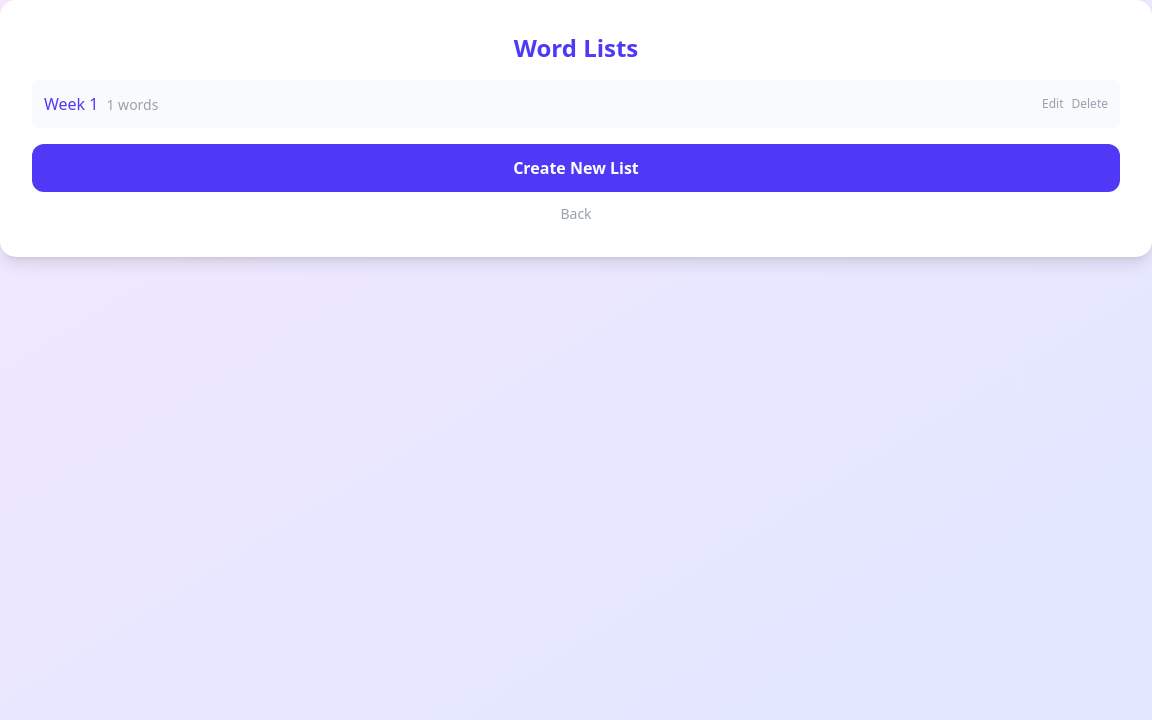
AdminPanel › prompts for PIN when trying to edit with PIN set
The width and height of the screenshot is (1152, 720).
Expected: the text "Week 1" is shown, [44,93,98,115]
Click the button "Edit": click(1053, 104) [1042,96,1064,112]
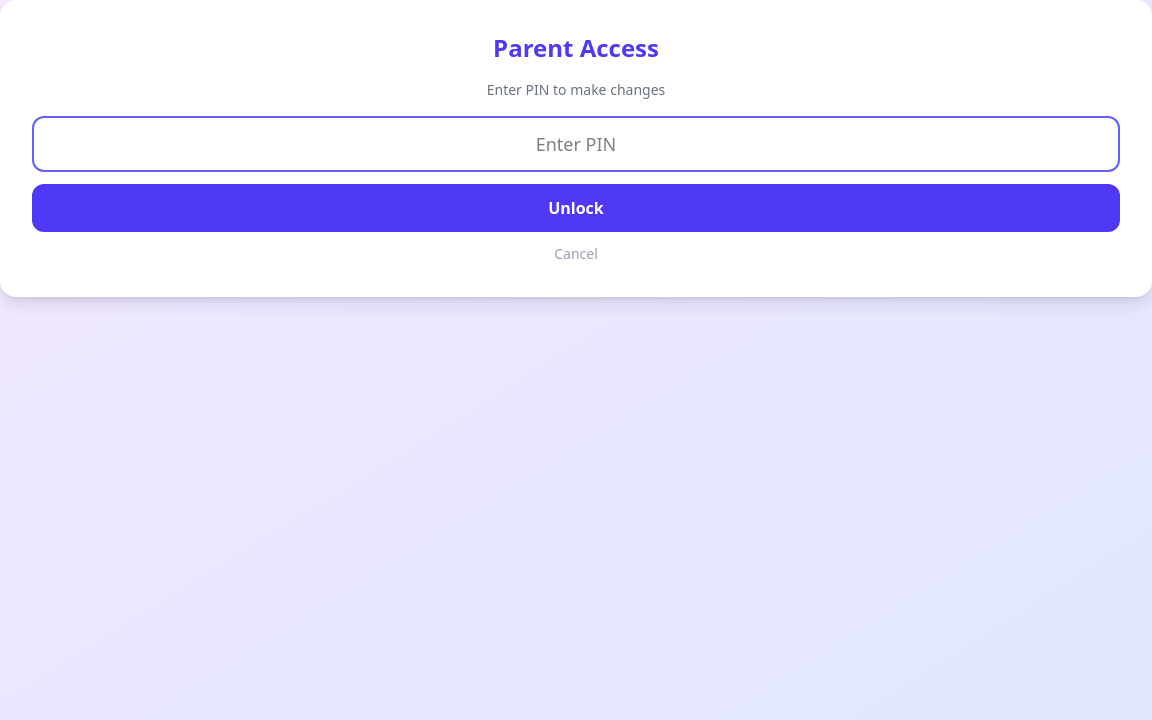
Expected: the heading "Parent Access" is shown, [493,31,659,64]
Expected: the password field with placeholder "Enter PIN" is shown, [32,116,1120,172]
